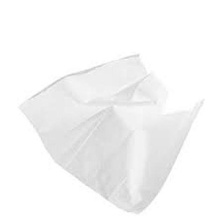tissue: (12, 48, 212, 220)
